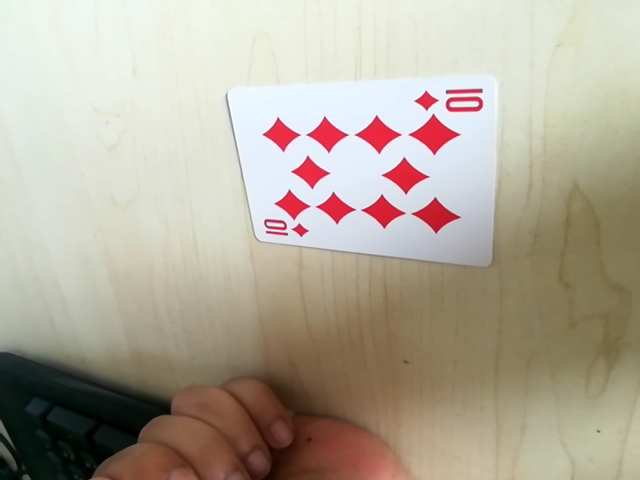fk 10: (412, 83, 490, 117), (255, 216, 311, 246)
